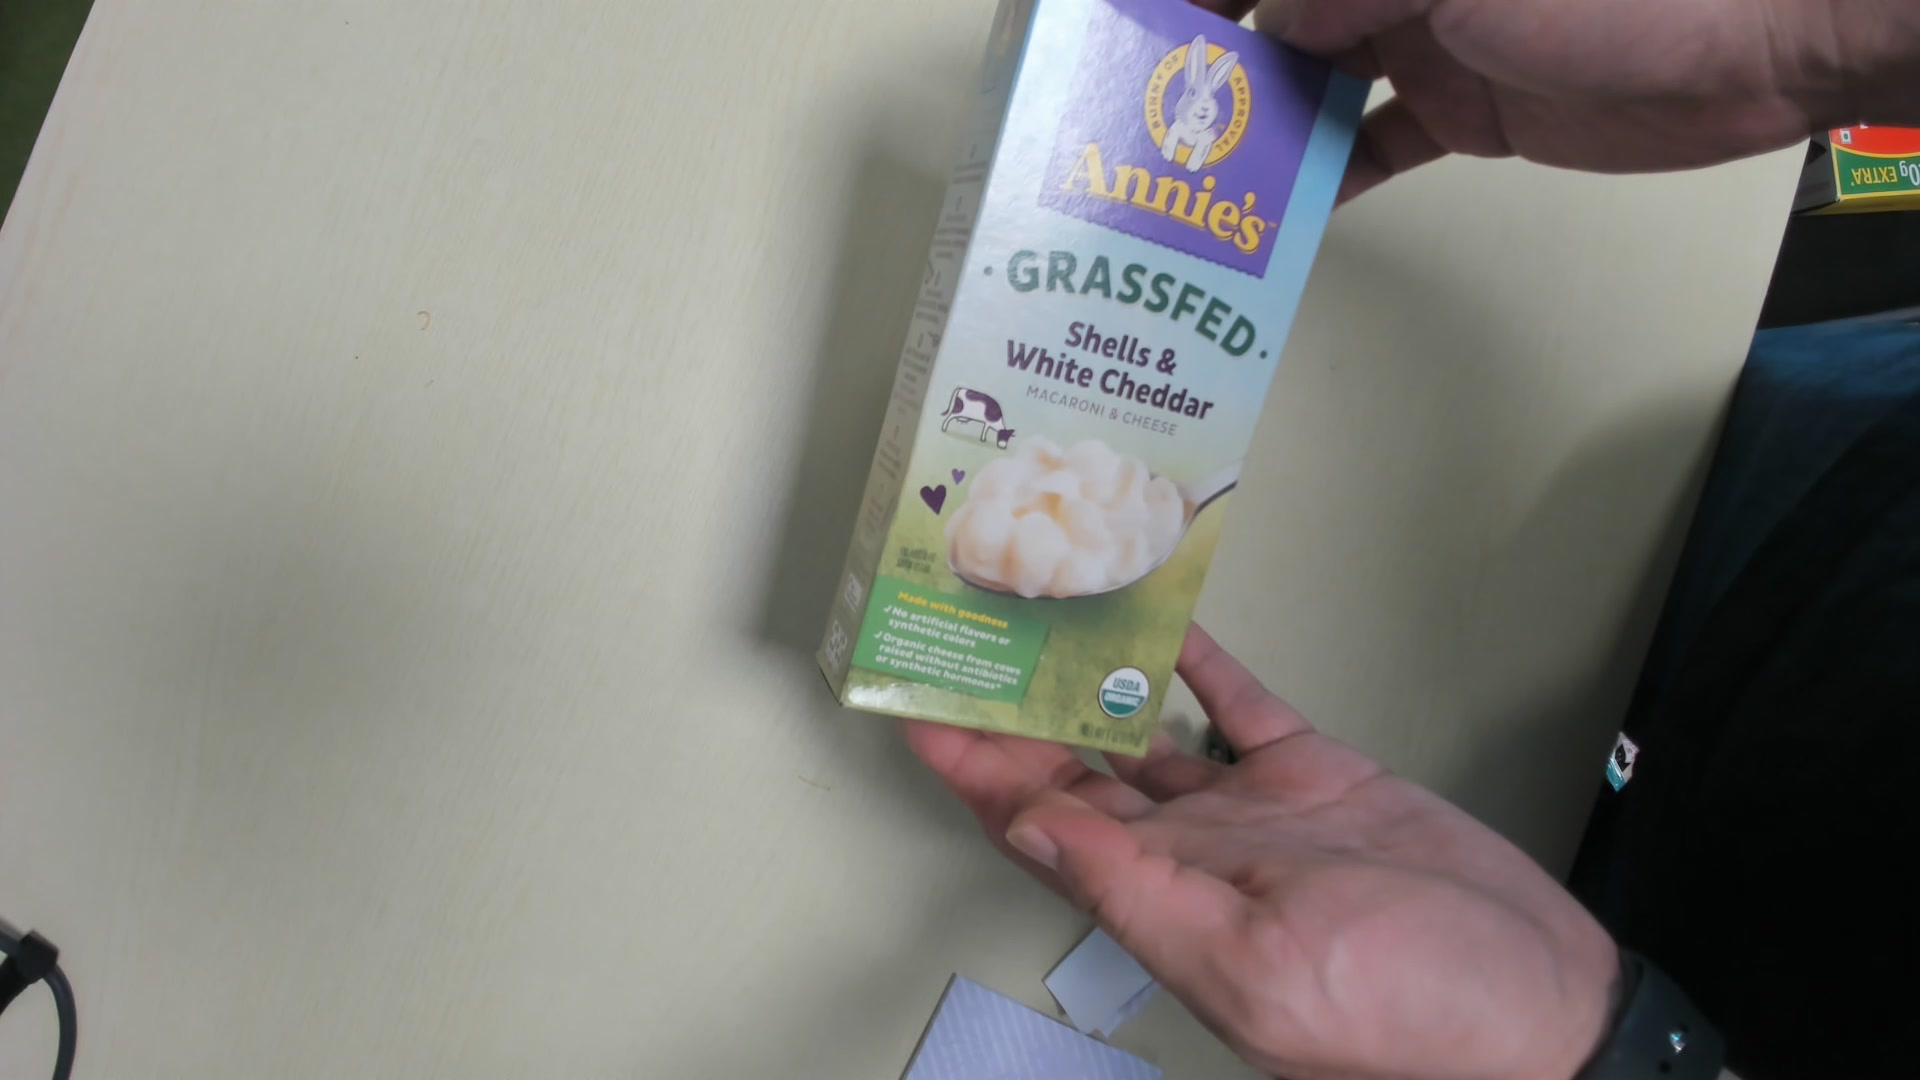InstantMeals_100_199g_NonHalal_NonHealthy: (811, 3, 1360, 756)
